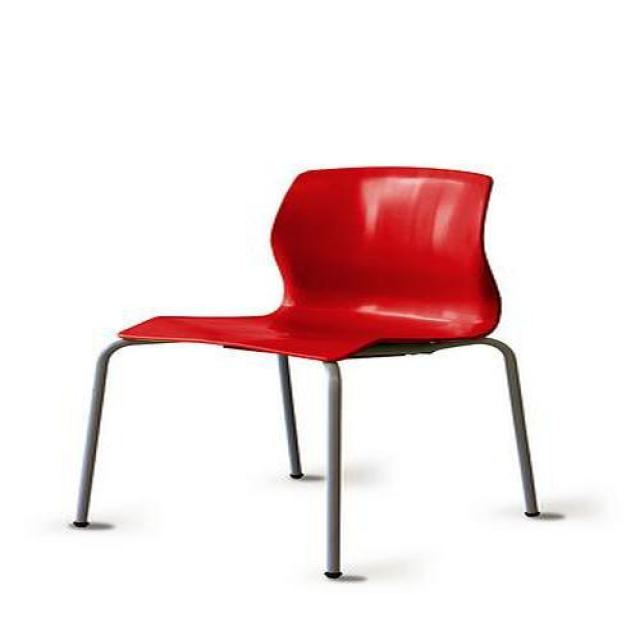chair: (78, 166, 540, 582)
